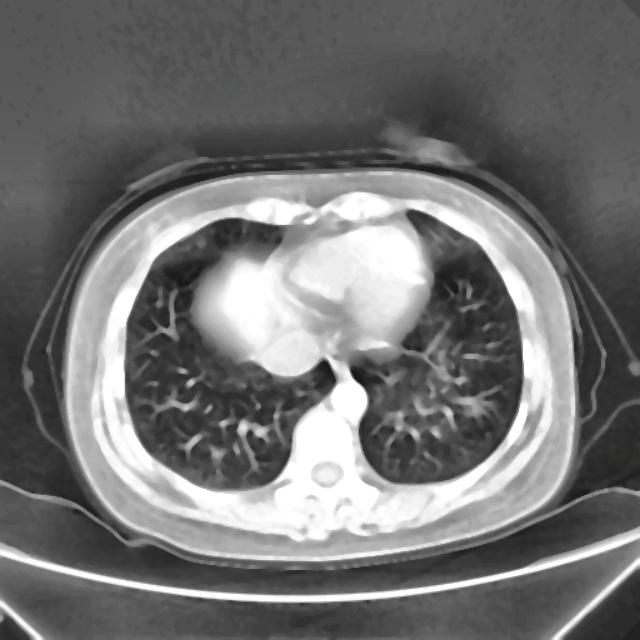covid: (37, 152, 591, 568)
